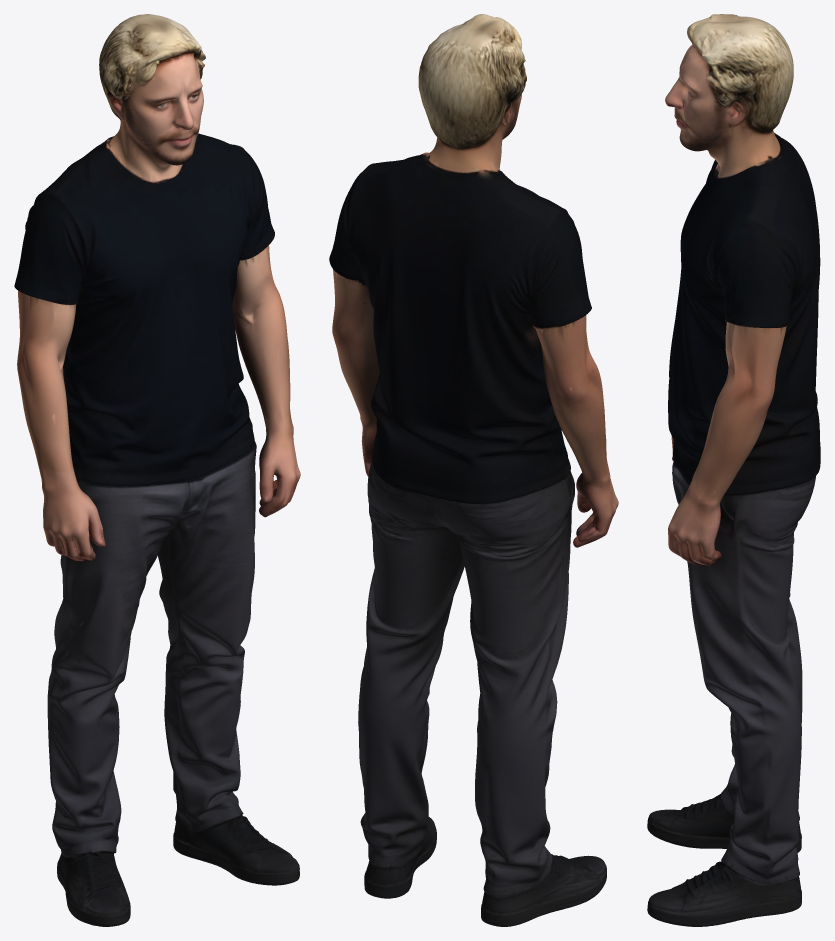
The model's file is eddi-v2.glb.
The picture shows the model from 3 angles, left to right: view 1: azimuth 30°, elevation 25°; view 2: azimuth 150°, elevation 25°; view 3: azimuth 270°, elevation 25°; orthographic projection.
Visible parts, largest first — view 1: node_0; view 2: node_0; view 3: node_0.
Part boxes in pixels (box(x1,y1,x2,y2)): node_0: box(14, 14, 300, 926); node_0: box(329, 14, 618, 926); node_0: box(647, 14, 820, 926).
Size of the model in its own units: 0.3659 by 1.16 by 0.2132.
1 material, 1 textured.
